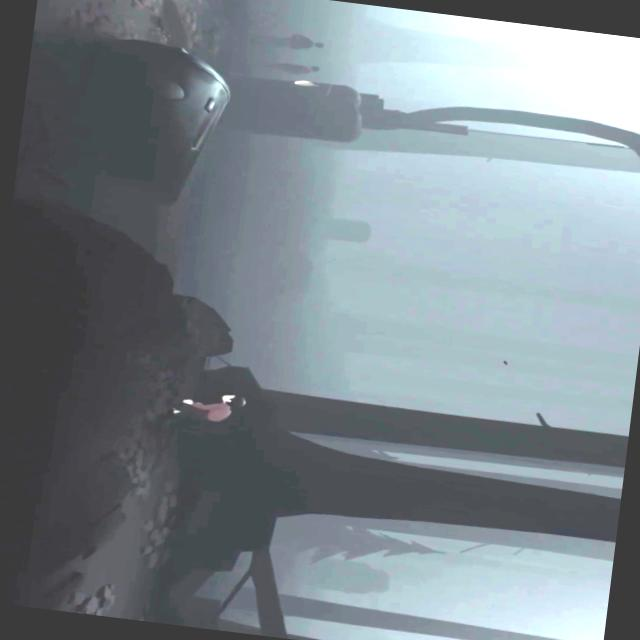boy: (168, 388, 246, 424)
human: (251, 28, 325, 51), (253, 57, 320, 76), (134, 518, 136, 524)
